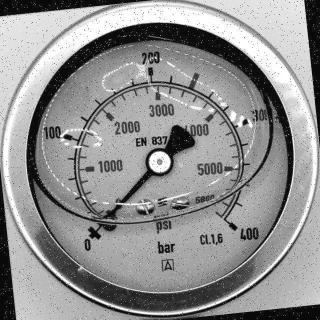gauge: (0, 0, 320, 320), (214, 210, 260, 247), (78, 218, 106, 255), (146, 147, 174, 176), (107, 207, 117, 217)
